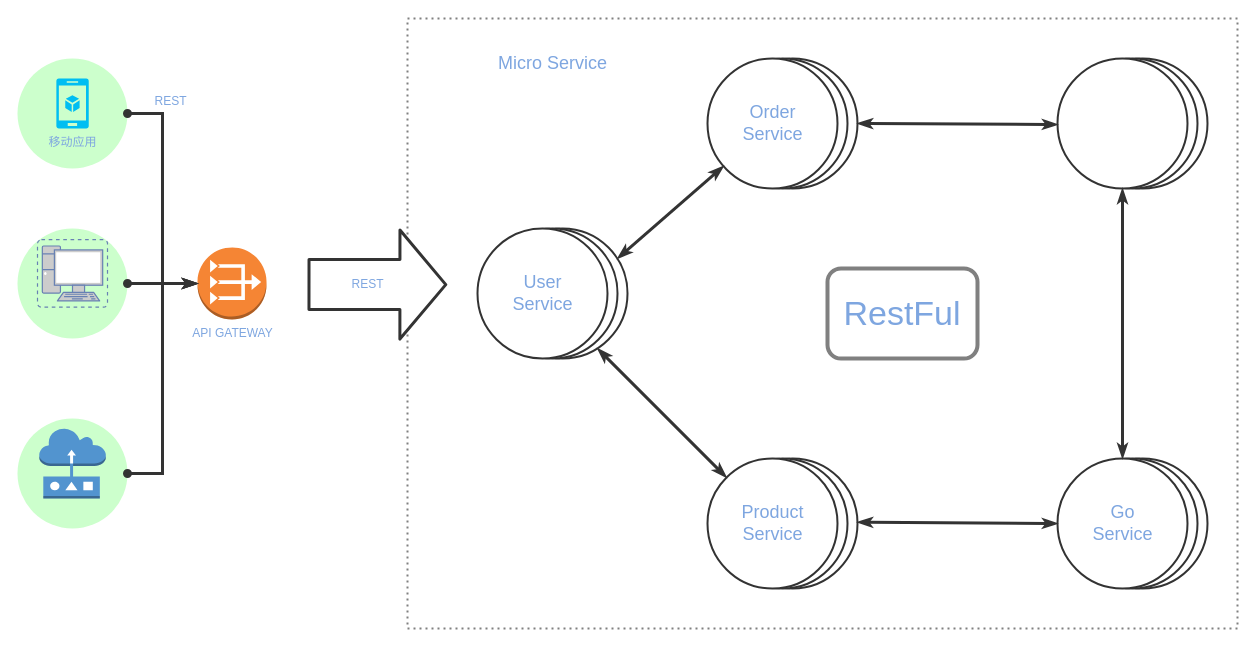
This 1255x646 diagram has some shape labels left out. The shapes that lost their labels are listed below. From the top down, each one's centre as x and y in pixels, then its label:
pixel 1122 123: XXX Service
pixel 72 273: Web应用
pixel 72 463: 物联网设备
